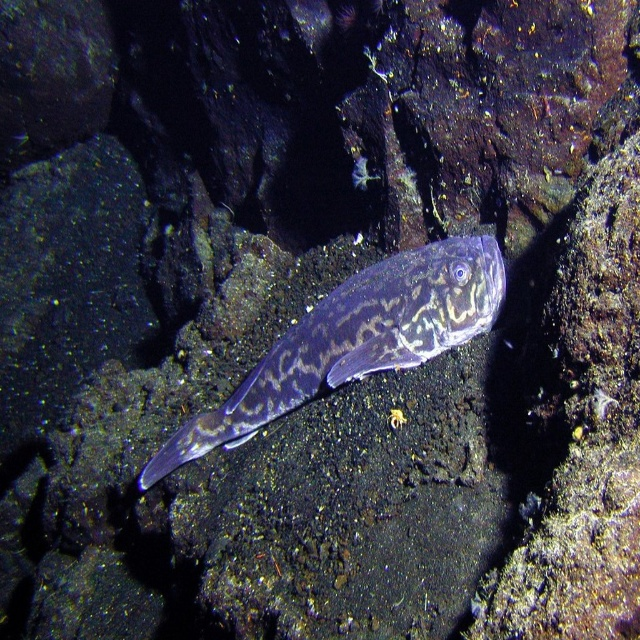Fish: (142, 235, 506, 491)
